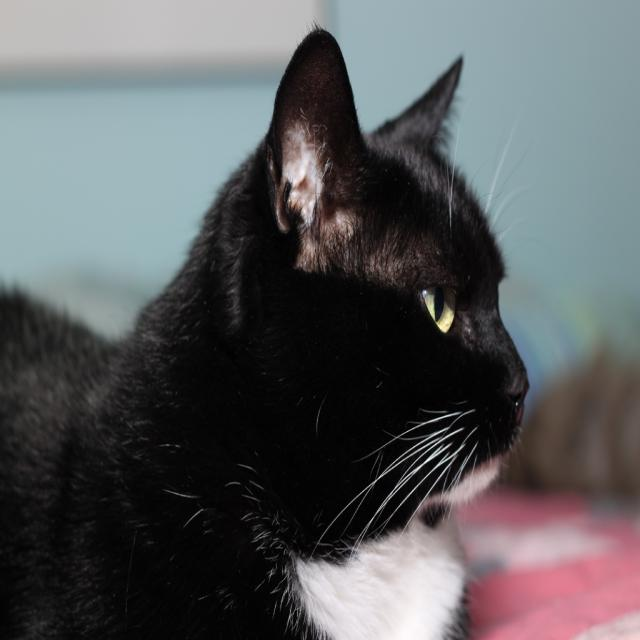Cat: (0, 16, 532, 638)
